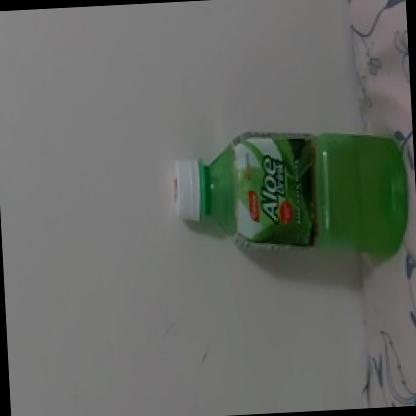plastic_bottles: (167, 119, 416, 264)
